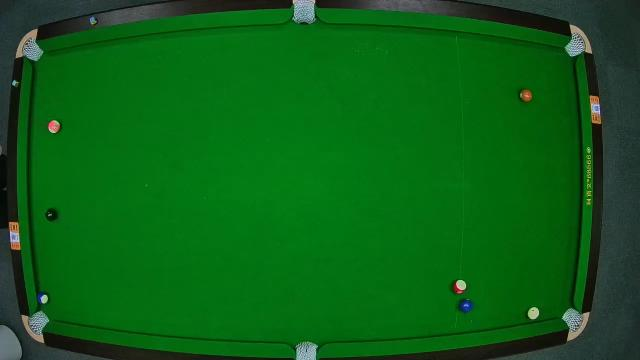bag1: (19, 38, 45, 62)
bag2: (291, 0, 317, 26)
bag3: (566, 29, 588, 57)
bag4: (29, 310, 49, 334)
bag5: (294, 340, 320, 360)
bag6: (563, 308, 585, 332)
ball0: (526, 304, 540, 320)
ball10: (36, 292, 50, 306)
ball11: (454, 279, 468, 295)
ball12: (48, 118, 62, 133)
ball2: (461, 300, 475, 312)
ball7: (520, 87, 532, 103)
ball8: (44, 207, 58, 222)
